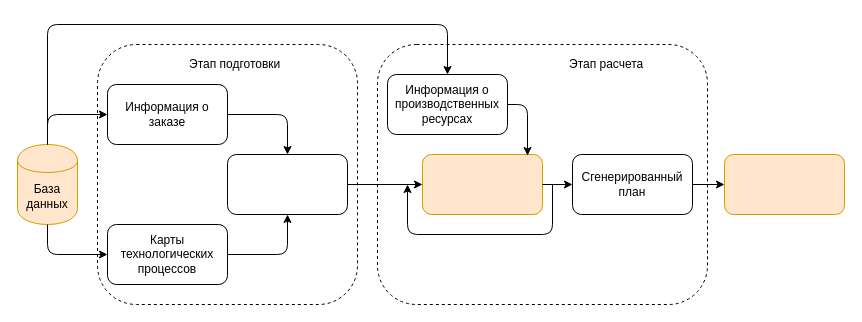
Image size: 862x322. Some labels were removed from this diagram. Each missing label, with the centre of its shape:
"Генерация системы уравнений" goes at (287,184).
"Динамическая генерация плана" goes at (482,184).
"Конвертация логического в физическое время" goes at (784,184).
